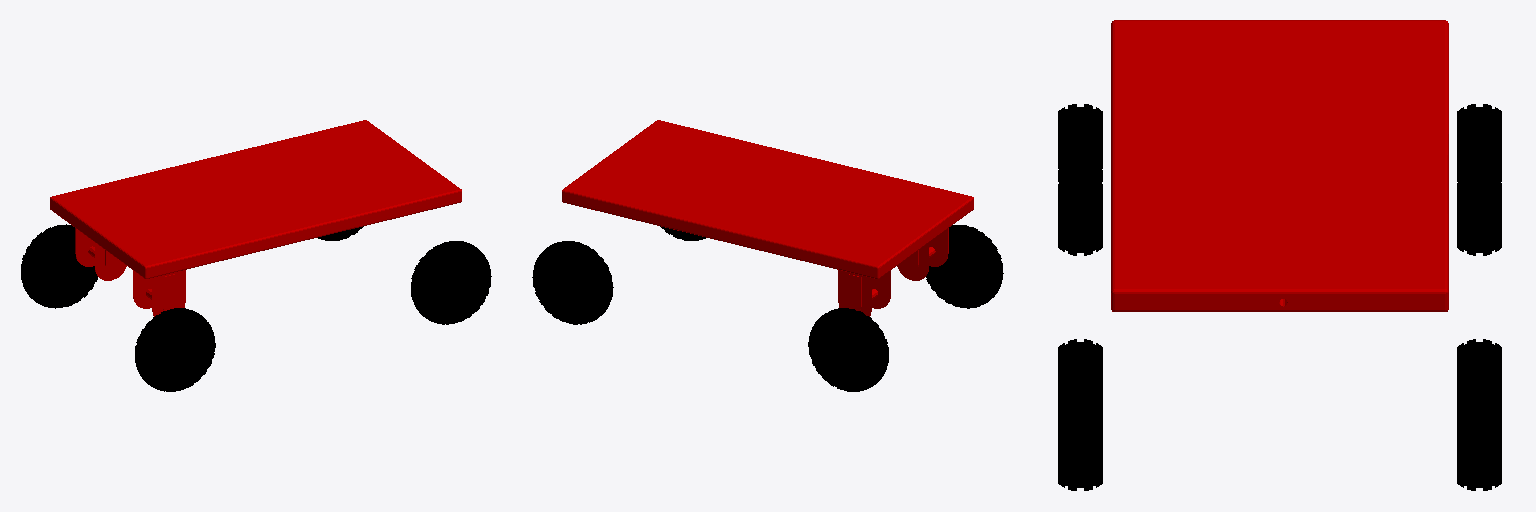
The robot description file, URDF, robot "robot_urdf":
<?xml version="1.0" ?>
<!-- =================================================================================== -->
<!-- |    This document was autogenerated by xacro from xacro/robot.xacro              | -->
<!-- |    EDITING THIS FILE BY HAND IS NOT RECOMMENDED                                 | -->
<!-- =================================================================================== -->
<!-- Name your robot here -->
<robot name="robot_urdf">
  <material name="red">
    <color rgba="0.8 0.0 0.0 1.0"/>
  </material>
  <material name="black">
    <color rgba="0.0 0.0 0.0 1.0"/>
  </material>
  <material name="dark">
    <color rgba="0.3 0.3 0.3 1.0"/>
  </material>
  <gazebo reference="base_link">
    <material>Gazebo/Red</material>
  </gazebo>
  <gazebo reference="w_rear_right">
    <material>Gazebo/FlatBlack</material>
  </gazebo>
  <gazebo reference="w_rear_left">
    <material>Gazebo/FlatBlack</material>
  </gazebo>
  <gazebo reference="w_front_right">
    <material>Gazebo/FlatBlack</material>
  </gazebo>
  <gazebo reference="w_front_left">
    <material>Gazebo/FlatBlack</material>
  </gazebo>
  <link name="dummy_link">
  </link>
  <joint name="dummy_joint" type="fixed">
    <parent link="dummy_link"/>
    <child link="base_link"/>
  </joint>
  <link name="base_link">
    <inertial>
      <origin rpy="0 0 0" xyz="-0.00011795 -1.3106E-06 0.0254"/>
      <mass value="24.944"/>
      <inertia ixx="0.54582" ixy="1.495E-05" ixz="-5.262E-18" iyy="1.9465" iyz="5.8233E-18" izz="2.4817"/>
    </inertial>
    <visual>
      <origin rpy="0 0 0" xyz="0 0 0"/>
      <geometry>
        <mesh filename="package://robot_urdf/meshes/base_link.STL"/>
      </geometry>
      <material name="red"/>
    </visual>
    <collision>
      <origin rpy="0 0 0" xyz="0 0 0"/>
      <geometry>
        <mesh filename="package://robot_urdf/meshes/base_link.STL"/>
      </geometry>
    </collision>
  </link>
  <link name="w_rear_right">
    <inertial>
      <origin rpy="0 0 0" xyz="-0.4191 -0.3002 0.0254"/>
      <mass value="2.1167"/>
      <inertia ixx="0.0076561" ixy="-2.6772E-15" ixz="-2.1087E-15" iyy="0.014045" iyz="6.0961E-16" izz="0.0076561"/>
    </inertial>
    <visual>
      <origin rpy="0 0 0" xyz="0 0 0"/>
      <geometry>
        <mesh filename="package://robot_urdf/meshes/w_rear_right.STL"/>
      </geometry>
      <material name="black"/>
    </visual>
    <collision>
      <origin rpy="0 0 0" xyz="0 0 0"/>
      <geometry>
        <mesh filename="package://robot_urdf/meshes/w_rear_right.STL"/>
      </geometry>
    </collision>
  </link>
  <joint name="j_rear_right" type="revolute">
    <origin rpy="0 0 0" xyz="0 0 0"/>
    <parent link="base_link"/>
    <child link="w_rear_right"/>
    <axis xyz="0 -1 0"/>
    <limit effort="0" lower="0" upper="0" velocity="0"/>
  </joint>
  <link name="w_rear_left">
    <inertial>
      <origin rpy="0 0 0" xyz="-0.4191 0.3002 0.0254"/>
      <mass value="2.1167"/>
      <inertia ixx="0.0076561" ixy="-1.7667E-15" ixz="-1.2431E-13" iyy="0.014045" iyz="1.3261E-15" izz="0.0076561"/>
    </inertial>
    <visual>
      <origin rpy="0 0 0" xyz="0 0 0"/>
      <geometry>
        <mesh filename="package://robot_urdf/meshes/w_rear_left.STL"/>
      </geometry>
      <material name="black"/>
    </visual>
    <collision>
      <origin rpy="0 0 0" xyz="0 0 0"/>
      <geometry>
        <mesh filename="package://robot_urdf/meshes/w_rear_left.STL"/>
      </geometry>
    </collision>
  </link>
  <joint name="j_rear_left" type="revolute">
    <origin rpy="0 0 0" xyz="0 0 0"/>
    <parent link="base_link"/>
    <child link="w_rear_left"/>
    <axis xyz="0 1 0"/>
    <limit effort="0" lower="0" upper="0" velocity="0"/>
  </joint>
  <link name="w_front_right">
    <inertial>
      <origin rpy="0 0 0" xyz="0.4191 -0.3002 0.0254"/>
      <mass value="2.1167"/>
      <inertia ixx="0.0076561" ixy="2.4488E-15" ixz="-8.1881E-14" iyy="0.014045" iyz="-1.1757E-15" izz="0.0076561"/>
    </inertial>
    <visual>
      <origin rpy="0 0 0" xyz="0 0 0"/>
      <geometry>
        <mesh filename="package://robot_urdf/meshes/w_front_right.STL"/>
      </geometry>
      <material name="black"/>
    </visual>
    <collision>
      <origin rpy="0 0 0" xyz="0 0 0"/>
      <geometry>
        <mesh filename="package://robot_urdf/meshes/w_front_right.STL"/>
      </geometry>
    </collision>
  </link>
  <joint name="j_front_right" type="revolute">
    <origin rpy="0 0 0" xyz="0 0 0"/>
    <parent link="base_link"/>
    <child link="w_front_right"/>
    <axis xyz="0 -1 0"/>
    <limit effort="0" lower="0" upper="0" velocity="0"/>
  </joint>
  <link name="w_front_left">
    <inertial>
      <origin rpy="0 0 0" xyz="0.4191 0.3002 0.0254"/>
      <mass value="2.1167"/>
      <inertia ixx="0.0076561" ixy="2.7121E-15" ixz="1.2081E-13" iyy="0.014045" iyz="8.743E-16" izz="0.0076561"/>
    </inertial>
    <visual>
      <origin rpy="0 0 0" xyz="0 0 0"/>
      <geometry>
        <mesh filename="package://robot_urdf/meshes/w_front_left.STL"/>
      </geometry>
      <material name="black"/>
    </visual>
    <collision>
      <origin rpy="0 0 0" xyz="0 0 0"/>
      <geometry>
        <mesh filename="package://robot_urdf/meshes/w_front_left.STL"/>
      </geometry>
    </collision>
  </link>
  <joint name="j_front_left" type="revolute">
    <origin rpy="0 0 0" xyz="0 0 0"/>
    <parent link="base_link"/>
    <child link="w_front_left"/>
    <axis xyz="0 1 0"/>
    <limit effort="30" lower="0" upper="0" velocity="30"/>
  </joint>
  <link name="base_laser">
    <inertial>
      <origin rpy="0 0 0" xyz="-0.00029774 0.0066667 0.00013047"/>
      <mass value="0.15717"/>
      <inertia ixx="6.7885E-05" ixy="-1.3987E-07" ixz="-8.1554E-07" iyy="0.00013173" iyz="-9.0932E-08" izz="7.1972E-05"/>
    </inertial>
    <visual>
      <origin rpy="0 0 0" xyz="0 0 0"/>
      <geometry>
        <mesh filename="package://robot_urdf/meshes/ydlidar.dae"/>
      </geometry>
      <material name="">
        <color rgba="0.64706 0.61961 0.58824 1"/>
      </material>
    </visual>
    <collision>
      <origin rpy="0 0 0" xyz="0 0 0"/>
      <geometry>
        <mesh filename="package://robot_urdf/meshes/ydlidar.dae"/>
      </geometry>
    </collision>
  </link>
  <link name="laser_frame">
    <inertial>
      <origin rpy="0 0 0" xyz="-0.00036659 0.00064155 -0.00027052"/>
      <mass value="0.25482"/>
      <inertia ixx="8.9194E-05" ixy="1.8116E-07" ixz="3.6435E-08" iyy="0.00018279" iyz="2.423E-07" izz="0.00011103"/>
    </inertial>
    <!--visual>
      <origin
        xyz="0 0 0"
        rpy="0 0 0" />
      <geometry>
        <mesh
          filename="package://ydlidar_ros/meshes/ydlidar.dae" />
      </geometry>
      <material
        name="">
        <color
          rgba="0.64706 0.61961 0.58824 1" />
      </material>
    </visual-->
    <!--collision>
      <origin
        xyz="0 0 0"
        rpy="0 0 0" />
      <geometry>
        <mesh
          filename="package://ydlidar_ros/meshes/ydlidar.dae" />
      </geometry>
    </collision-->
  </link>
  <joint name="laser_joint" type="fixed">
    <origin rpy="0 0 0" xyz="0 0 0.03172"/>
    <parent link="base_laser"/>
    <child link="laser_frame"/>
    <axis xyz="0 0 0"/>
  </joint>
  <!-- Add your gazebo sensors here -->
  <gazebo reference="base_laser">
    <!-- <gravity>true</gravity> -->
    <!-- Gazebo has fixed set of Sensors types. Check them out here <> -->
    <sensor name="laser" type="ray">
      <!-- Add in your sensor characteristics -->
      <pose> 0 0 0 0 0 0 </pose>
      <visualise>true</visualise>
      <update_rate>40</update_rate>
      <!-- <always_on>true</always_on> -->
      <ray>
        <scan>
          <horizontal>
            <samples>720</samples>
            <resolution>1</resolution>
            <min_angle>-1.570796</min_angle>
            <max_angle>1.570796</max_angle>
          </horizontal>
        </scan>
        <range>
          <min>0.10</min>
          <max>30.0</max>
          <resolution>0.01</resolution>
        </range>
        <noise>
          <type>gaussian</type>
          <mean>0.0</mean>
          <stddev>0.01</stddev>
        </noise>
      </ray>
      <plugin filename="libgazebo_ros_laser.so" name="gazebo_ros_head_hokuyo_controller">
        <!-- Use topic name as /my_robot/scan -->
        <topicName>/robot_urdf/laser_scan</topicName>
        <frameName>laser_frame</frameName>
      </plugin>
    </sensor>
  </gazebo>
  <!--  Gazebo plugin for control here is already added for you -->
  <gazebo>
		<plugin name="gazebo_ros_control" filename="libgazebo_ros_control.so">
			<robotNamespace>/robot_urdf</robotNamespace>
			<robotSimType>gazebo_ros_control/DefaultRobotHWSim</robotSimType>
			<legacyModeNS>true</legacyModeNS>
		</plugin>
	</gazebo>
  <!-- Create a joint between your robot and sensor -->
  <joint name="sensor_joint" type="fixed">
    <origin rpy="0 0 0" xyz="0.45 0 0.09"/>
    <parent link="dummy_link"/>
    <child link="base_laser"/>
  </joint>
</robot>

--- What the picture shows (computed from the rendered views, not written in the file) ---
3 views of the same robot in one strip: view 1: azimuth 30°, elevation 25°; view 2: azimuth 150°, elevation 25°; view 3: azimuth 270°, elevation 25° (orthographic).
Model robot_urdf with 8 links and 7 joints (4 revolute, 3 fixed), rooted at dummy_link, posed every joint at zero.
Links seen in each view (by area): view 1: base_link, w_rear_right, w_front_right, w_rear_left; view 2: base_link, w_rear_left, w_front_left, w_rear_right; view 3: base_link, w_front_right, w_front_left, w_rear_left, w_rear_right.
Link boxes in pixels (bbox=[...]): base_link: bbox=[50, 120, 461, 316]; w_rear_right: bbox=[135, 308, 215, 391]; w_front_right: bbox=[411, 241, 491, 324]; w_rear_left: bbox=[21, 224, 97, 308]; base_link: bbox=[562, 120, 973, 316]; w_rear_left: bbox=[808, 308, 888, 391]; w_front_left: bbox=[532, 241, 613, 324]; w_rear_right: bbox=[926, 225, 1003, 308]; base_link: bbox=[1111, 20, 1448, 311]; w_front_right: bbox=[1058, 339, 1102, 490]; w_front_left: bbox=[1457, 339, 1501, 490]; w_rear_left: bbox=[1457, 104, 1501, 255]; w_rear_right: bbox=[1058, 104, 1102, 255].
Bounding box of the posed robot: 1.07 × 0.6694 × 0.3515 m (x, y, z).
Meshes: 6 distinct files referenced, 5 mesh visuals loaded (5 binary STL); not drawn: 1 (reference not matched to a file when rendering).
